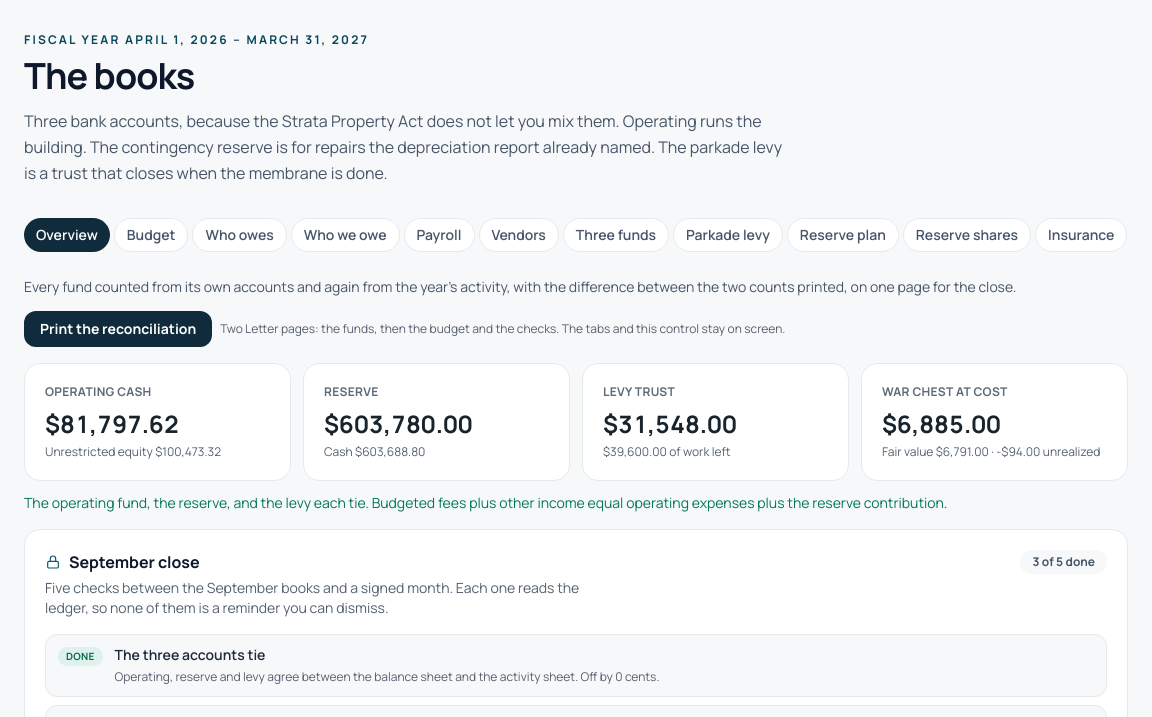
Scenario: /accounting budget › prints the plan to date beside the year to date, line by line
Click the button "Budget": (151, 235) [114,218,188,252]
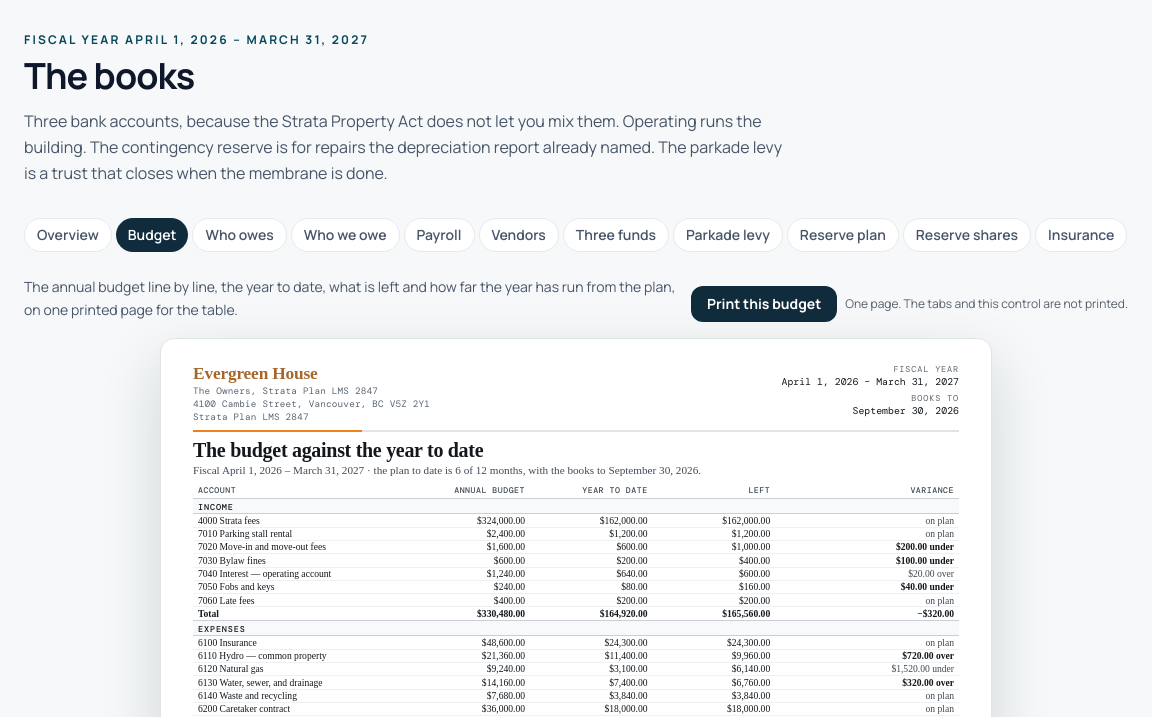
Check: the text "The budget against the year to date" is shown, box [193,439,483,461]
Check: the text "Variance" is shown, box [775,484,959,498]
